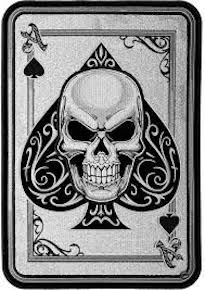AceOfSpades: (2, 1, 203, 290)
